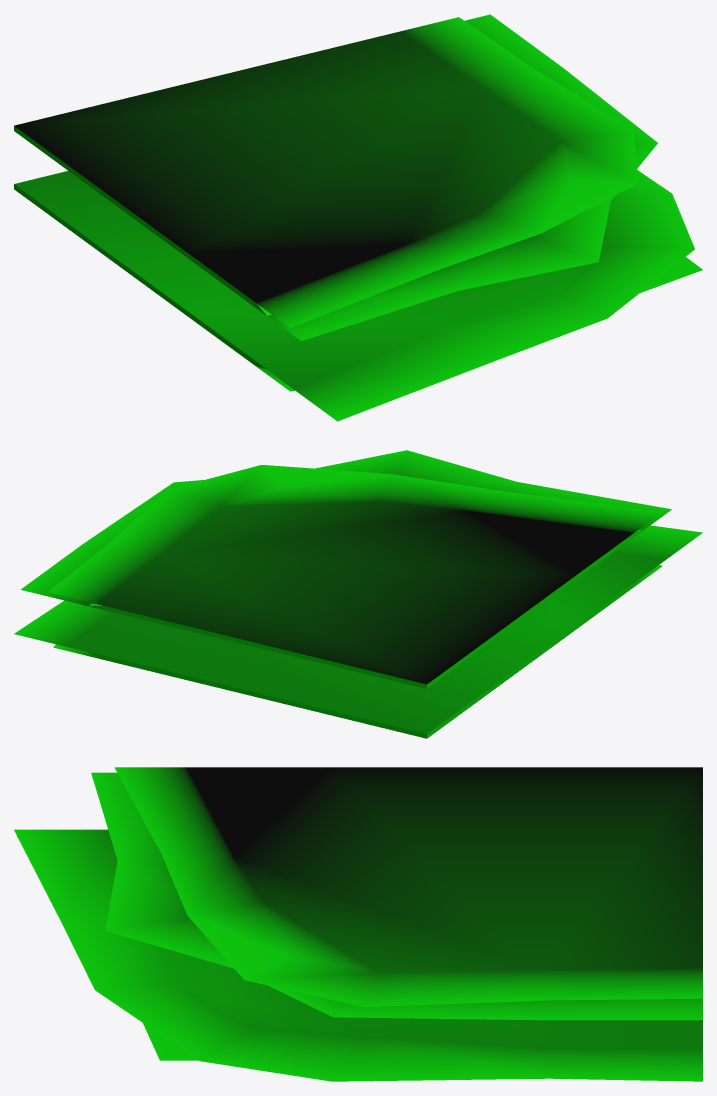
File: DBK_Plywood_Floor_End_B.fbx
3 views of the same model, one above another, from view 1: azimuth 30°, elevation 25°; view 2: azimuth 150°, elevation 25°; view 3: azimuth 270°, elevation 25° (orthographic). The views are drawn at different scales.
Visible parts, largest first — view 1: DBK_Plywood_Floor_End_B; view 2: DBK_Plywood_Floor_End_B; view 3: DBK_Plywood_Floor_End_B.
Part boxes in pixels (left/top/right/bottom): DBK_Plywood_Floor_End_B: left=14, top=14, right=702, bottom=421; DBK_Plywood_Floor_End_B: left=14, top=450, right=702, bottom=738; DBK_Plywood_Floor_End_B: left=14, top=767, right=702, bottom=1081.
Size of what is drawn, in the model's own units: 159 by 20 by 184.
